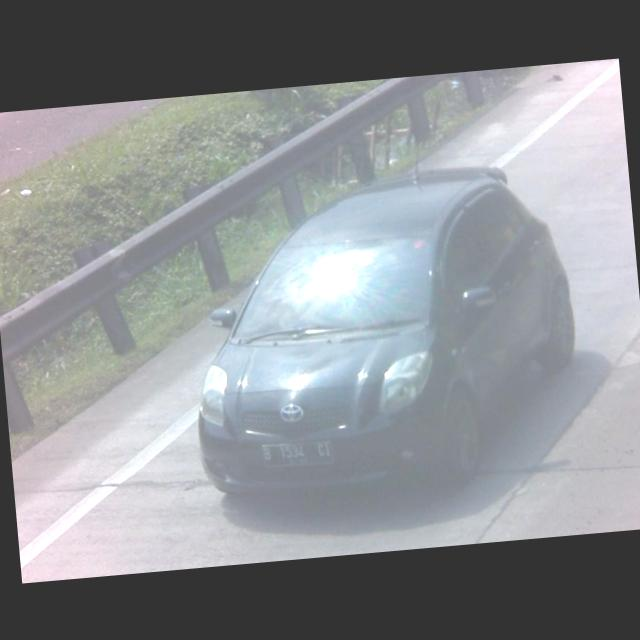plate: (258, 436, 332, 470)
